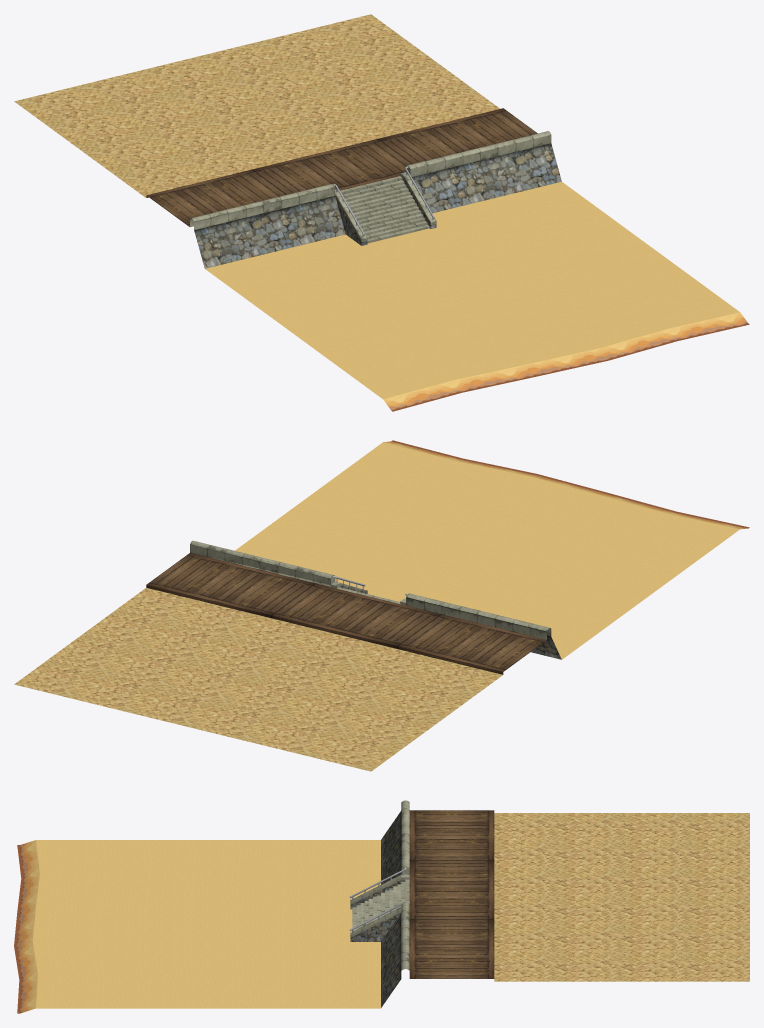
The model's file is Dock_Stairs.fbx.
3 renders of one model, top to bottom at view 1: azimuth 30°, elevation 25°; view 2: azimuth 150°, elevation 25°; view 3: azimuth 270°, elevation 25°, orthographic. The views are drawn at different scales.
Visible parts, largest first — view 1: Dock_Stairs; view 2: Dock_Stairs; view 3: Dock_Stairs.
Part boxes in pixels (left/top/right/bottom): Dock_Stairs: left=14, top=14, right=749, bottom=411; Dock_Stairs: left=14, top=440, right=749, bottom=771; Dock_Stairs: left=14, top=800, right=749, bottom=1013.
Bounding box in the file's own units: 10.06 × 1.24 × 18.56.
